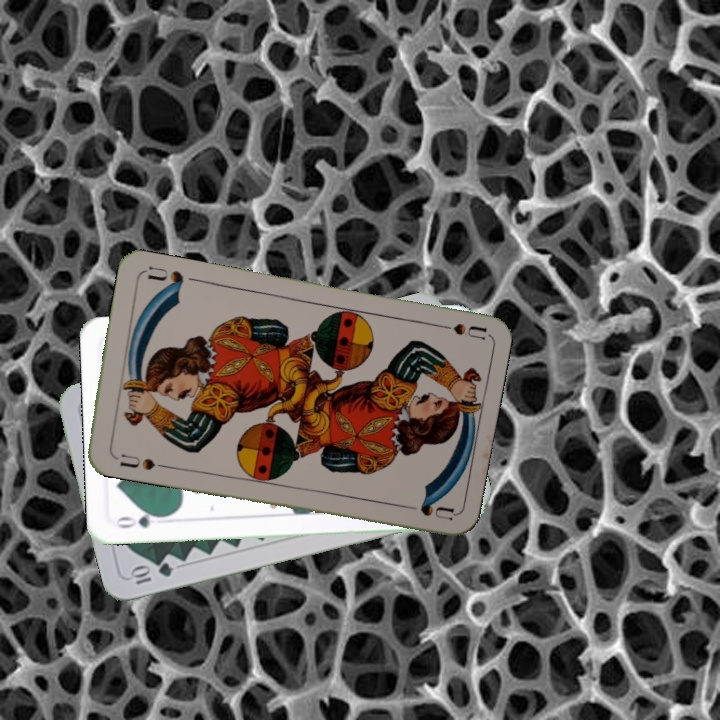G10: (126, 558, 176, 587)
GO: (112, 508, 170, 531)
SU: (427, 319, 487, 342), (116, 450, 158, 473)
